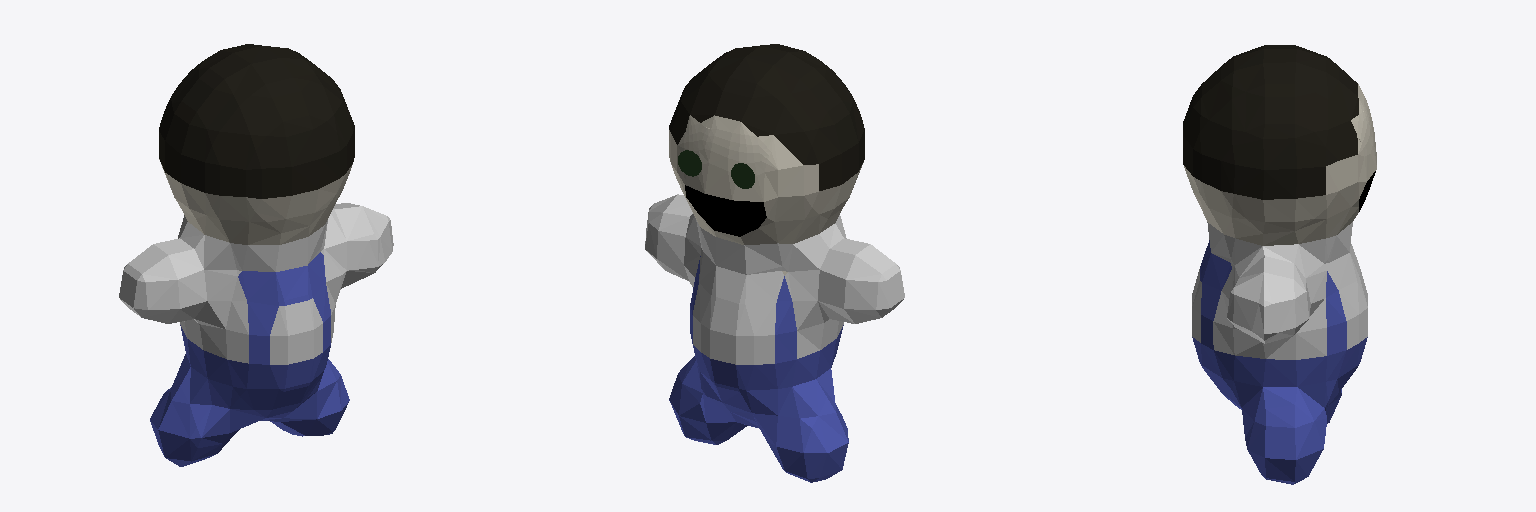
Rendered from person.obj.
3 renders of one model, left to right at view 1: azimuth 30°, elevation 25°; view 2: azimuth 150°, elevation 25°; view 3: azimuth 270°, elevation 25°, orthographic.
Parts seen in each view (by area): view 1: Mball.006_Mesh_hair, Mball.006_Mesh_shirt, Mball.006_Mesh_overalls, Mball.006_Mesh_flesh; view 2: Mball.006_Mesh_shirt, Mball.006_Mesh_overalls, Mball.006_Mesh_hair, Mball.006_Mesh_flesh, Mball.006_Mesh_mouth; view 3: Mball.006_Mesh_hair, Mball.006_Mesh_shirt, Mball.006_Mesh_overalls, Mball.006_Mesh_flesh.
Part boxes in pixels (left/top/right/bottom): Mball.006_Mesh_hair: left=159, top=44, right=354, bottom=198; Mball.006_Mesh_shirt: left=119, top=203, right=393, bottom=364; Mball.006_Mesh_overalls: left=150, top=252, right=349, bottom=466; Mball.006_Mesh_flesh: left=159, top=159, right=352, bottom=244; Mball.006_Mesh_shirt: left=645, top=194, right=904, bottom=364; Mball.006_Mesh_overalls: left=669, top=256, right=848, bottom=482; Mball.006_Mesh_hair: left=669, top=44, right=864, bottom=190; Mball.006_Mesh_flesh: left=669, top=115, right=863, bottom=275; Mball.006_Mesh_mouth: left=685, top=185, right=766, bottom=236; Mball.006_Mesh_hair: left=1183, top=45, right=1358, bottom=199; Mball.006_Mesh_shirt: left=1192, top=222, right=1367, bottom=359; Mball.006_Mesh_overalls: left=1192, top=240, right=1367, bottom=484; Mball.006_Mesh_flesh: left=1184, top=84, right=1376, bottom=245.
Bounding box in the file's own units: 0.5769 × 0.8528 × 0.3725.